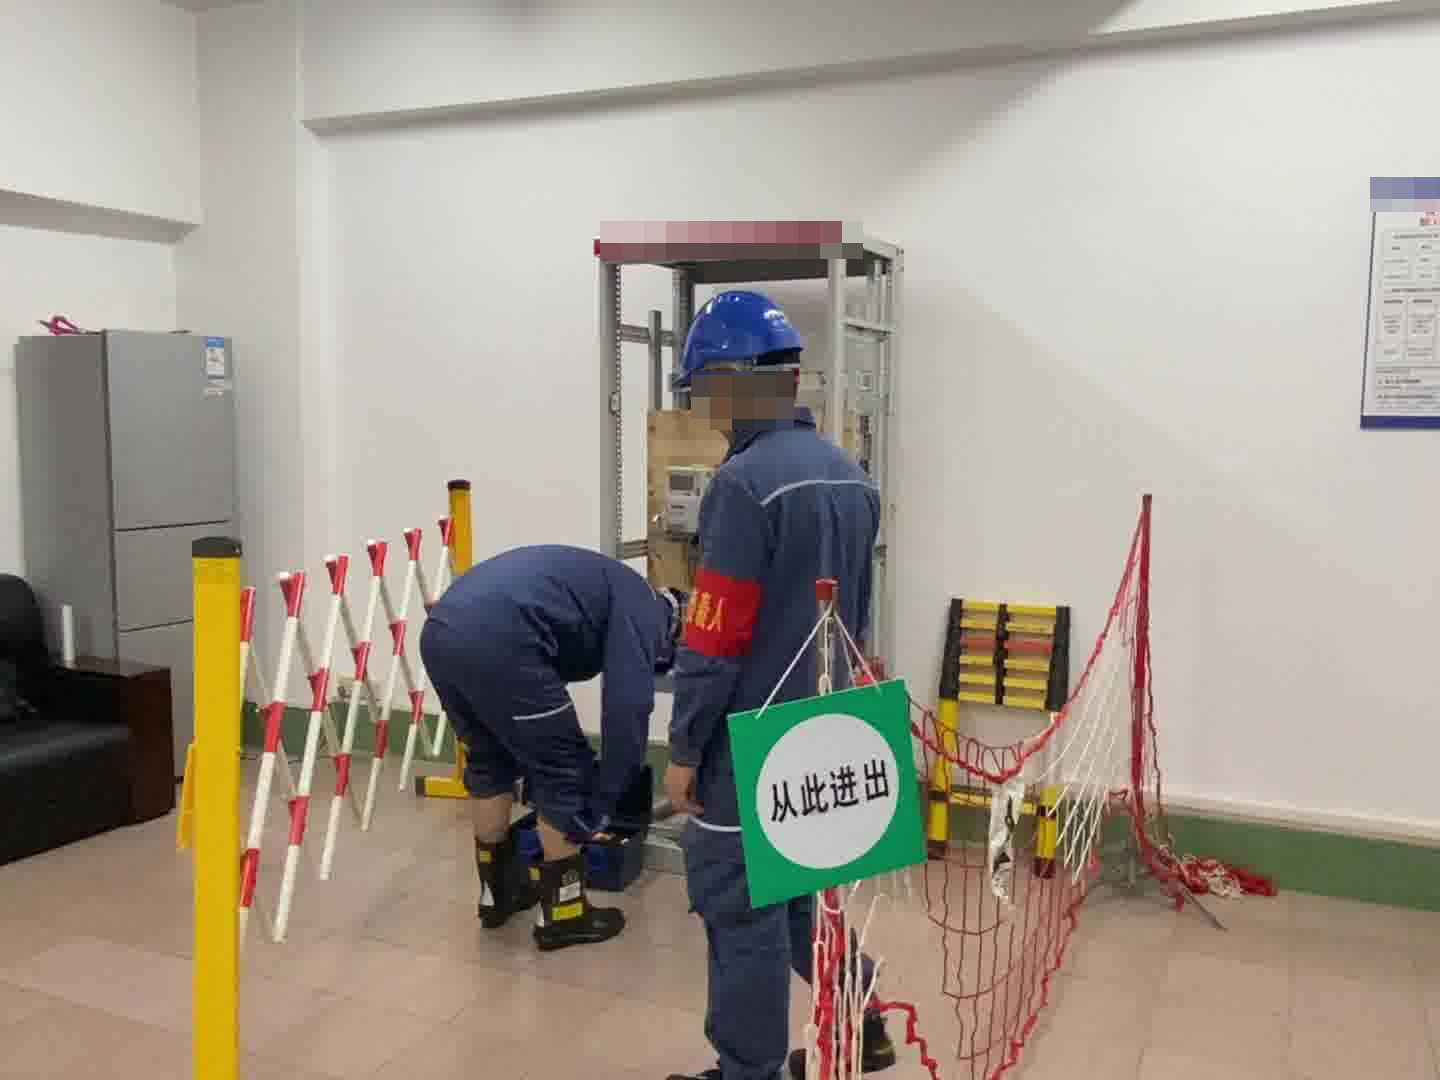badge: (676, 564, 766, 664)
downsuit: (675, 843, 896, 1069), (429, 691, 611, 841)
halt: (677, 288, 813, 436)
hand: (658, 749, 714, 824)
inear: (703, 358, 760, 423)
intosign: (728, 676, 934, 910)
person: (653, 292, 887, 1079), (416, 536, 659, 941)
shoe: (456, 838, 609, 955)
upsuit: (662, 412, 884, 697), (415, 542, 658, 688)
wrongbottom: (453, 764, 591, 870)
